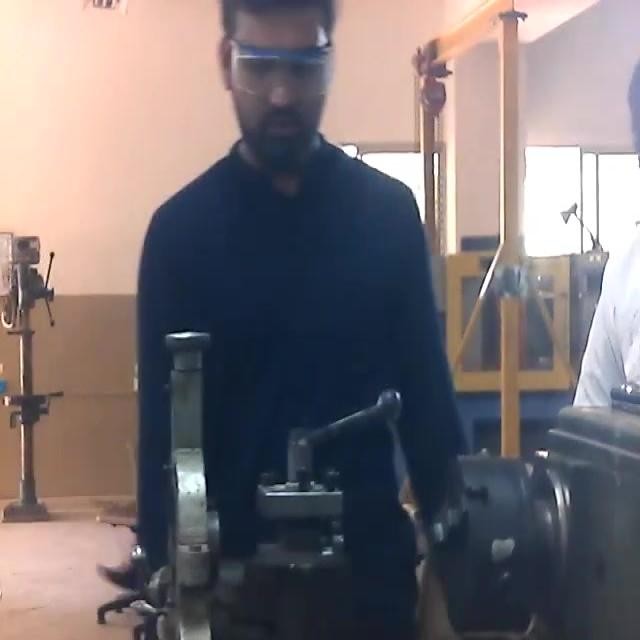googles: (230, 35, 331, 98)
